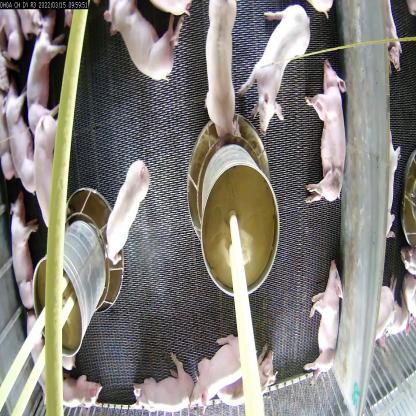Pig: (301, 67, 346, 222), (199, 0, 247, 141), (253, 9, 307, 134), (29, 121, 78, 240), (111, 0, 178, 86), (106, 157, 150, 275), (32, 16, 68, 152), (4, 86, 45, 202), (197, 323, 248, 415), (114, 365, 201, 416), (4, 200, 36, 318), (315, 279, 342, 371)
